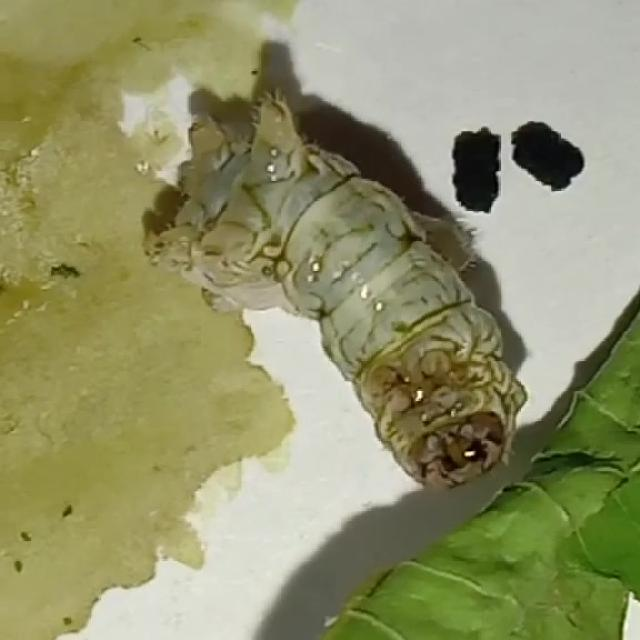Grasserie: (124, 70, 585, 493)
